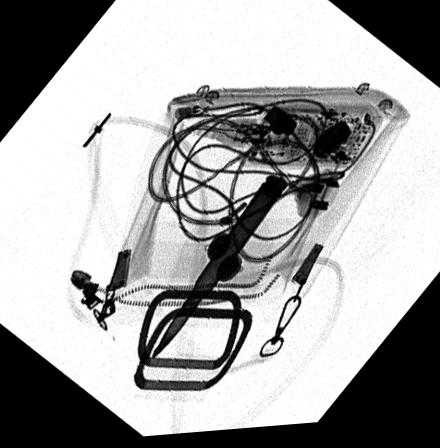Bullet: (149, 180, 290, 362)
